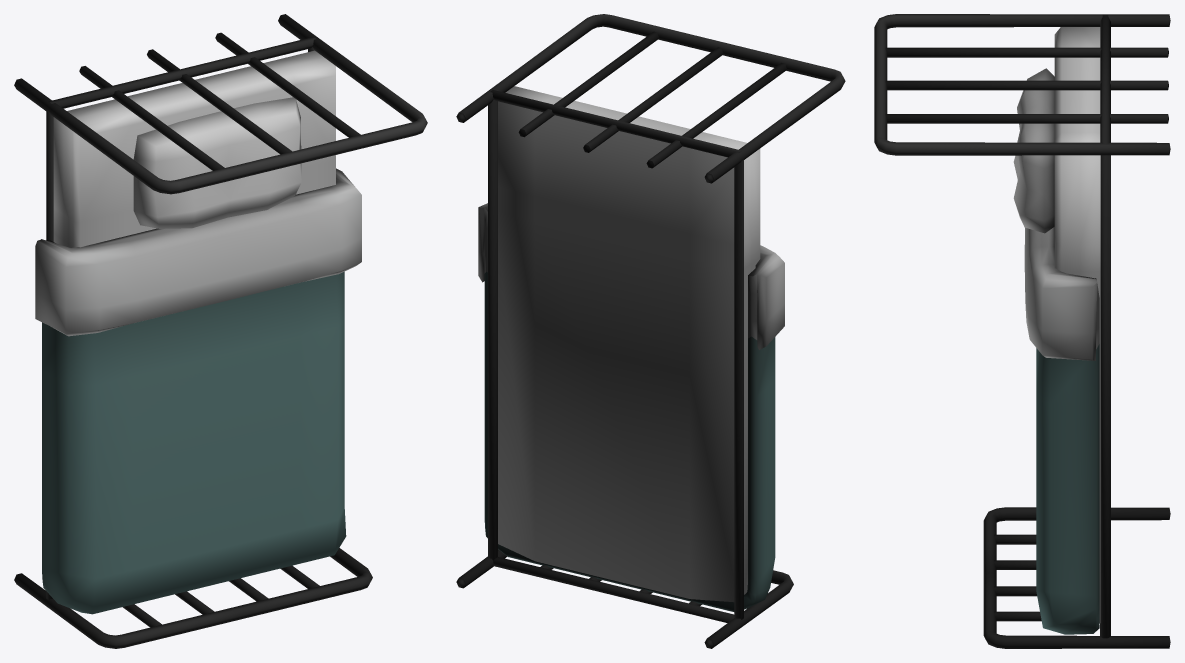
Rendered from bed2.glb.
The picture shows the model from 3 angles, left to right: view 1: azimuth 30°, elevation 25°; view 2: azimuth 150°, elevation 25°; view 3: azimuth 270°, elevation 25°; orthographic projection. The views are drawn at different scales.
Visible parts, largest first — view 1: color.002, base.011; view 2: base.011, color.002; view 3: base.011, color.002.
Part boxes in pixels (x1=…): color.002: x1=42, y1=271, x2=346, y2=614; base.011: x1=14, y1=14, x2=427, y2=648; base.011: x1=456, y1=14, x2=845, y2=648; color.002: x1=484, y1=272, x2=775, y2=611; base.011: x1=874, y1=14, x2=1170, y2=648; color.002: x1=1036, y1=344, x2=1099, y2=634.
Size of the model in its own units: 1.38 by 2.18 by 1.16.
